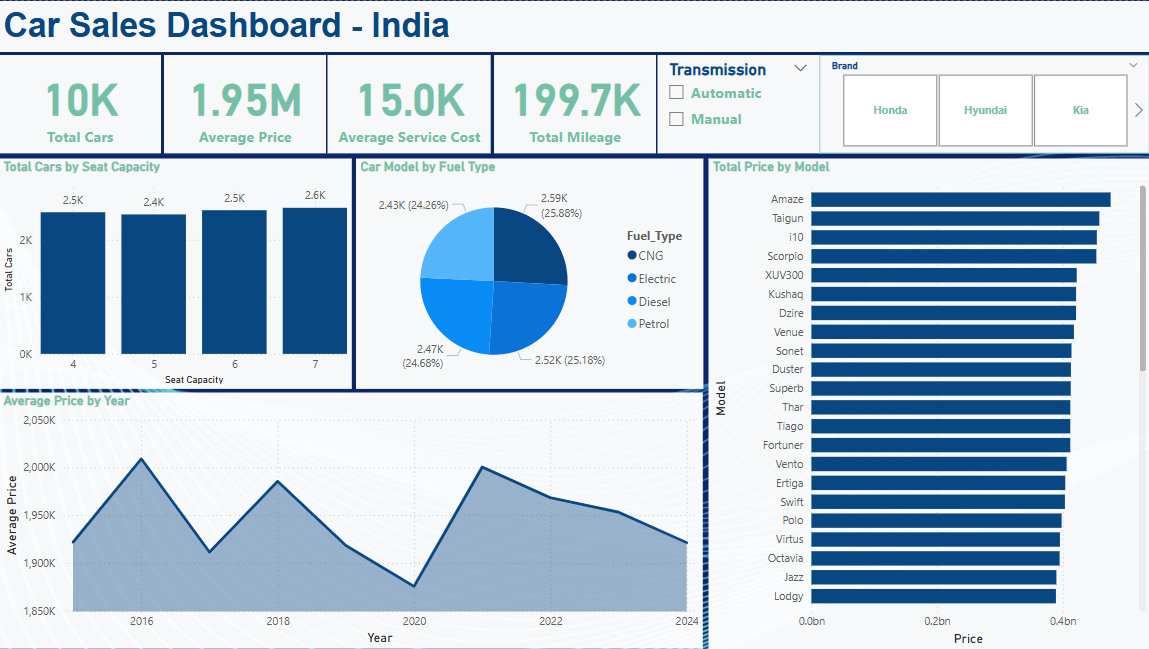

This screenshot's page, from the dashboard's own definition file:
{"tool":"powerbi","page":{"name":"Page 1","canvas":[1280,720],"ordinal":0},"visuals":[{"type":"areaChart","fields":{"Category":["car_dataset_india.Year"],"Y":["Avg(car_dataset_india.Price)"]},"box":[0,435.5,781.9,285],"z":0},{"type":"pieChart","title":"Car Model by Fuel Type","fields":{"Category":["car_dataset_india.Fuel_Type"],"Y":["CountNonNull(car_dataset_india.Model)"]},"box":[396.1,175.4,385.8,255.8],"z":1000},{"type":"card","fields":{"Values":["Avg(car_dataset_india.Service_Cost)"]},"box":[365.4,59.9,181.2,109.6],"z":2000},{"type":"card","fields":{"Values":["Avg(car_dataset_india.Price)"]},"box":[182.7,59.9,179.8,109.6],"z":3000},{"type":"card","fields":{"Values":["Sum(car_dataset_india.Mileage)"]},"box":[549.5,59.9,179.8,109.6],"z":4000},{"type":"clusteredColumnChart","title":"Total Cars by Seat Capacity","fields":{"Category":["car_dataset_india.Seating_Capacity"],"Y":["CountNonNull(car_dataset_india.Model)"]},"box":[0,175.4,391.7,255.8],"z":5000},{"type":"card","fields":{"Values":["Count(car_dataset_india.Car_ID)"]},"box":[0,59.9,179.8,109.6],"z":6000},{"type":"textbox","box":[0,0,1278.8,57],"z":7000},{"type":"slicer","fields":{"Values":["car_dataset_india.Brand"]},"box":[912,59.9,366.8,109.6],"z":8000},{"type":"barChart","title":"Total Price by Model","fields":{"Category":["car_dataset_india.Model"],"Y":["Sum(car_dataset_india.Price)"]},"box":[787.7,175.4,491.1,545.1],"z":9000},{"type":"slicer","fields":{"Values":["car_dataset_india.Transmission"]},"box":[732.2,59.9,179.8,109.6],"z":10000}]}

Visuals, with their boxes in screenshot pixels (x1, y1, x2, y2), scaled from the page's 1280x720 canvas onto the 1149x649 screenshot:
areaChart - car_dataset_india.Year x Avg(car_dataset_india.Price): [x1=0, y1=393, x2=702, y2=648]
"Car Model by Fuel Type" pieChart: [x1=356, y1=158, x2=702, y2=389]
card - Avg(car_dataset_india.Service_Cost): [x1=328, y1=54, x2=491, y2=153]
card - Avg(car_dataset_india.Price): [x1=164, y1=54, x2=325, y2=153]
card - Sum(car_dataset_india.Mileage): [x1=493, y1=54, x2=655, y2=153]
"Total Cars by Seat Capacity" clusteredColumnChart: [x1=0, y1=158, x2=352, y2=389]
card - Count(car_dataset_india.Car_ID): [x1=0, y1=54, x2=161, y2=153]
textbox: [x1=0, y1=0, x2=1148, y2=51]
slicer - car_dataset_india.Brand: [x1=819, y1=54, x2=1148, y2=153]
"Total Price by Model" barChart: [x1=707, y1=158, x2=1148, y2=648]
slicer - car_dataset_india.Transmission: [x1=657, y1=54, x2=819, y2=153]
